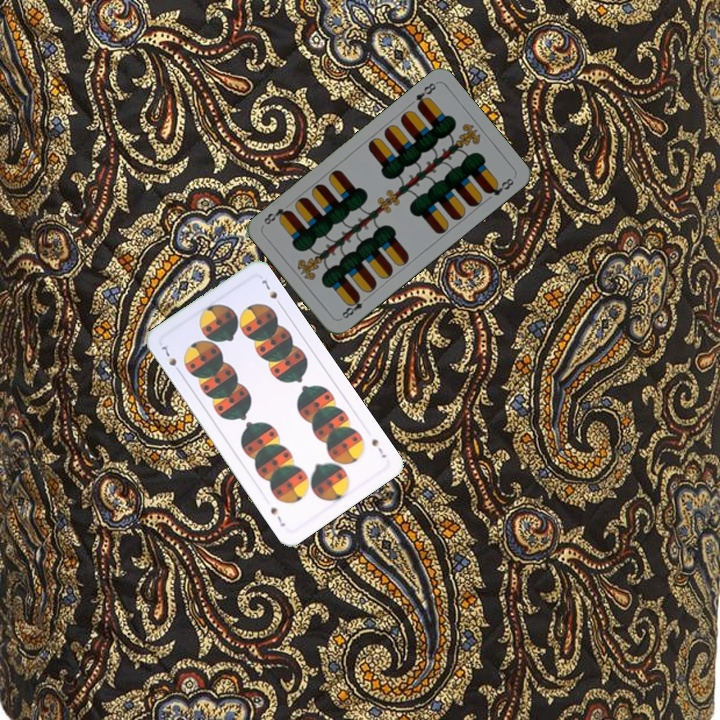E8: (336, 291, 365, 322), (411, 79, 439, 111)
S7: (156, 340, 184, 377), (367, 435, 389, 461)
